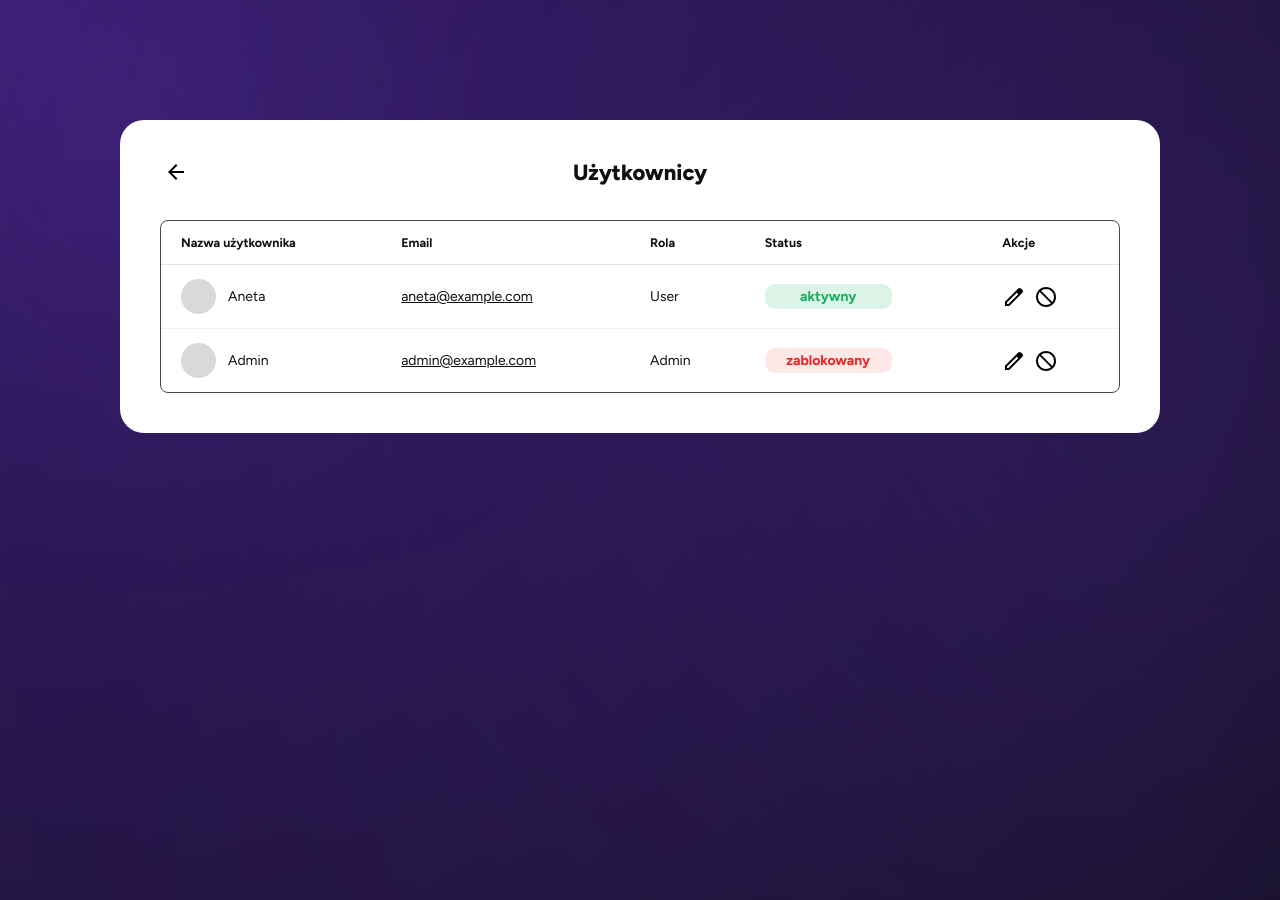
Test: UsersPage › otwiera modal blokowania i wywołuje endpoint lock-user
Click the button titled "Zablokuj": (1046, 296) [1034,284,1058,308]
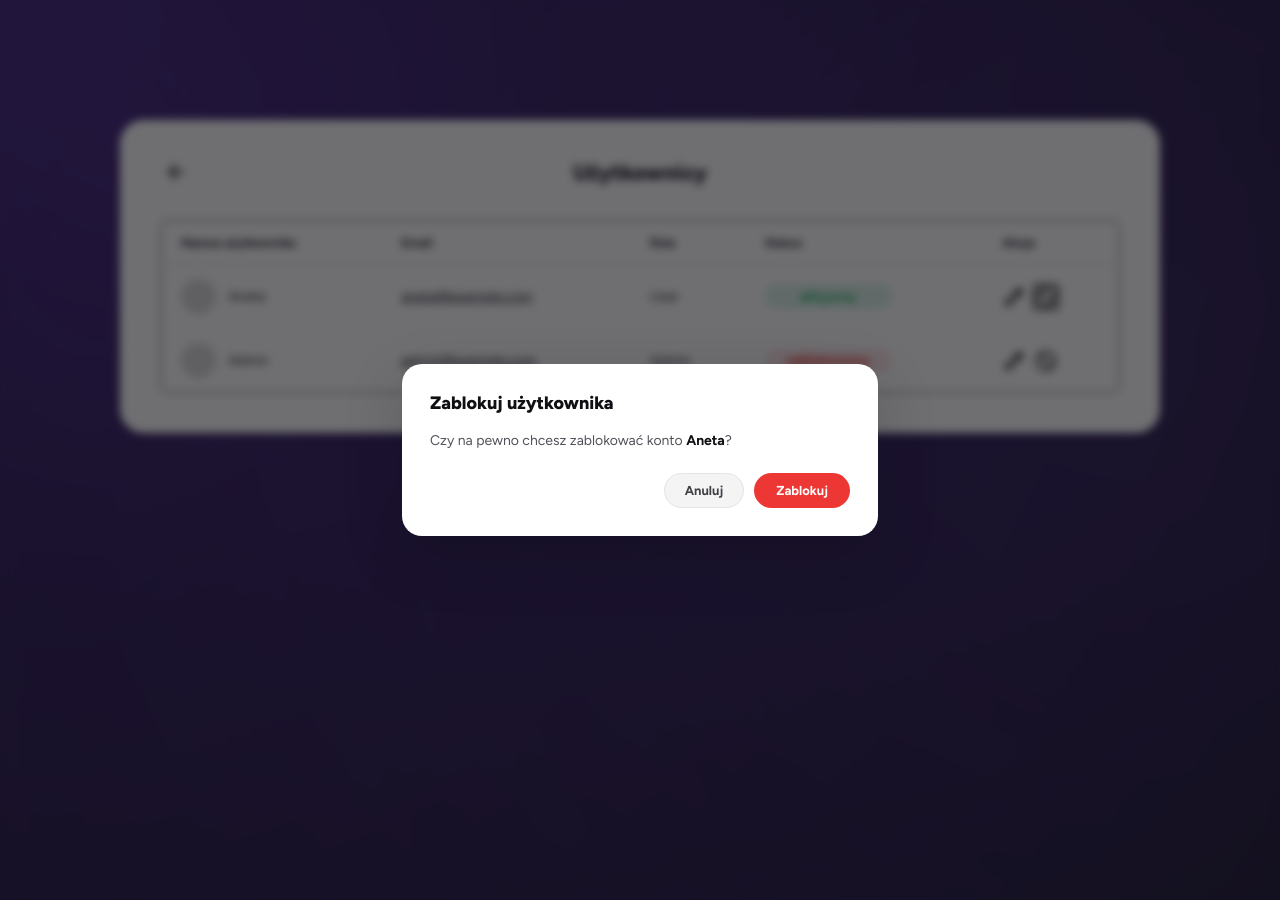
expect the heading "Zablokuj użytkownika" is shown: met, box [430,392,614,414]
Click the button "Zablokuj": (802, 490) [754,473,850,508]
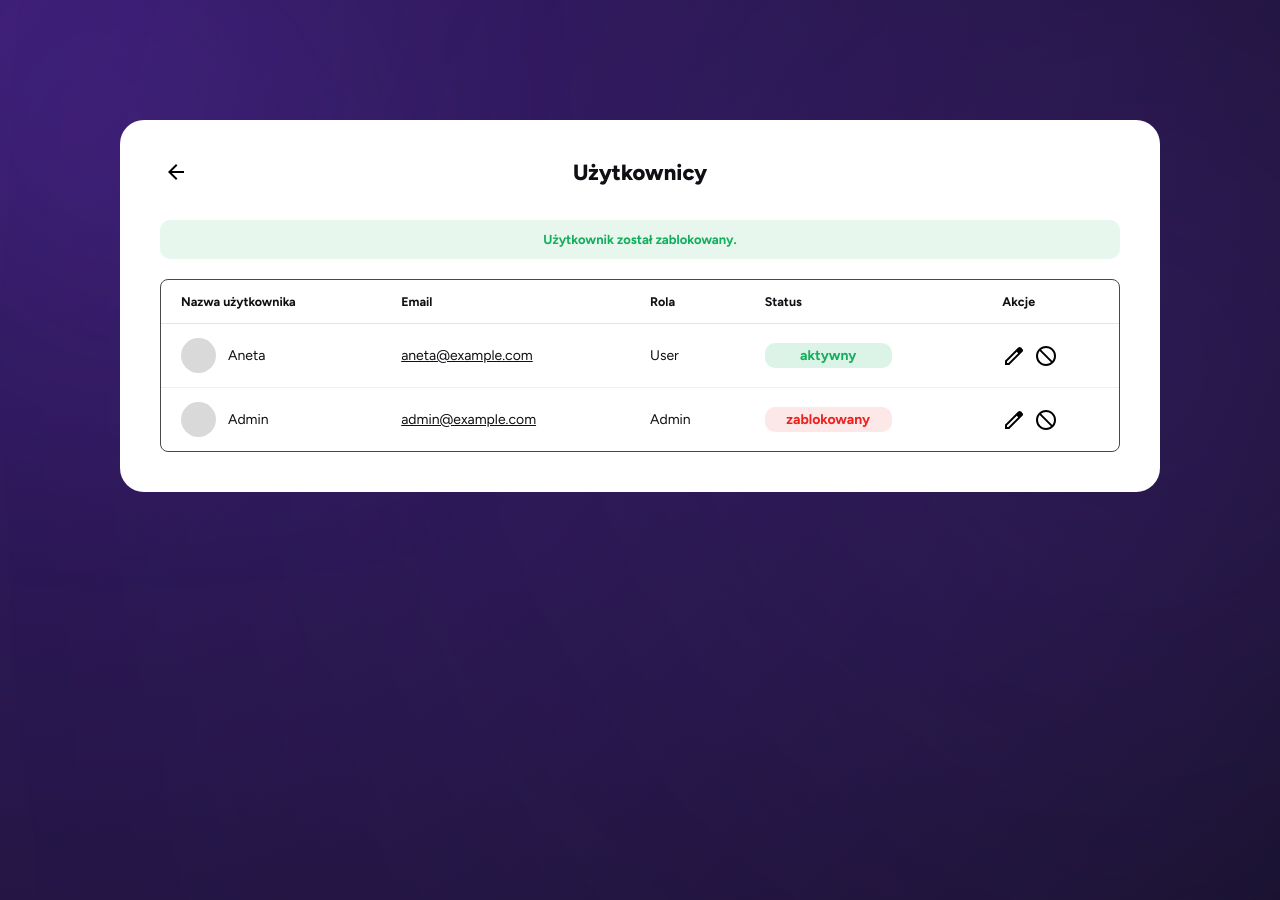
expect the text "Użytkownik został zablokowany." is shown: met, box [160,220,1120,259]
